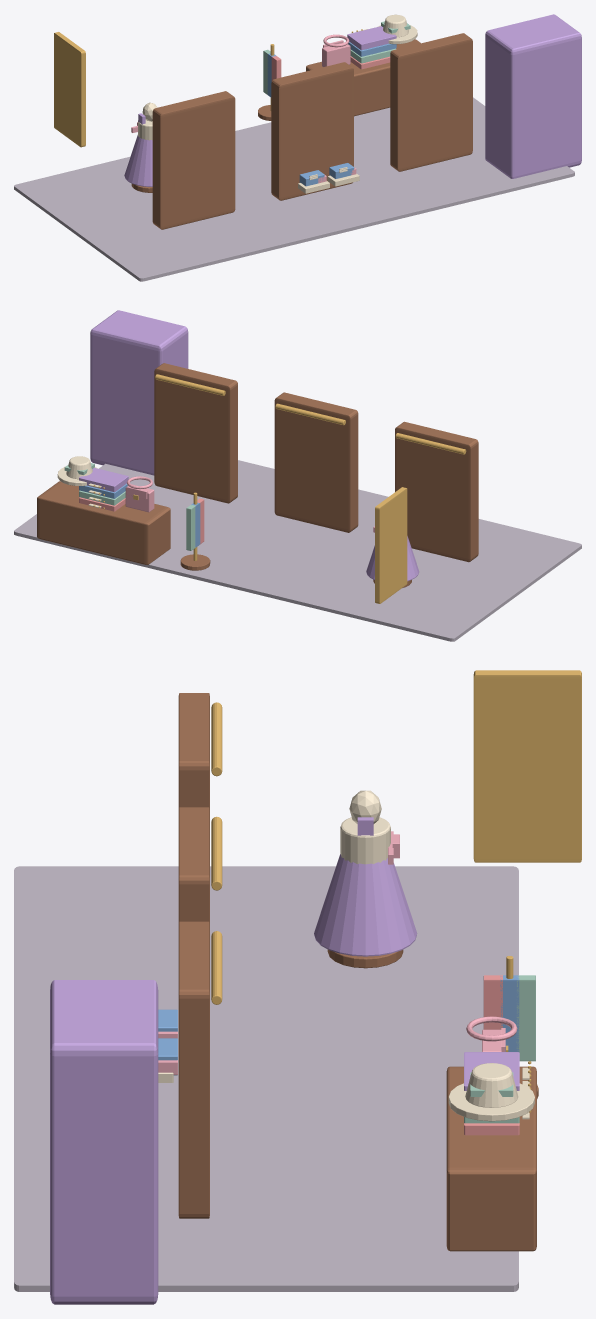
File: thread_and_thimble.glb
The picture shows the model from 3 angles, top to bottom: view 1: azimuth 30°, elevation 25°; view 2: azimuth 150°, elevation 25°; view 3: azimuth 270°, elevation 25°; orthographic projection. The views are drawn at different scales.
Visible parts, largest first — view 1: Thread_Floor_Inset, Thread_Fitting_Room, Thread_Rack_17, Thread_Rack_23, Thread_Rack_20, Thread_Mirror, Thread_Display_Table, Dress_Skirt, Folded_Shirt_4, Handbag_Body, Sun_Hat_Crown; view 2: Thread_Floor_Inset, Thread_Fitting_Room, Thread_Rack_20, Thread_Rack_23, Thread_Rack_17, Thread_Display_Table, Thread_Mirror, Folded_Shirt_4, Dress_Skirt, Handbag_Body, Thread_Rack_Rod_20, Thread_Rack_Rod_17 (+3 smaller); view 3: Thread_Floor_Inset, Thread_Fitting_Room, Thread_Mirror, Thread_Display_Table, Thread_Rack_23, Dress_Skirt, Thread_Rack_17, Thread_Rack_20, Dress_Torso, Sun_Hat_Crown, Sun_Hat_Brim, Scarf_3 (+8 smaller).
Boxes of the visible parts, x1,y1,x2,y2 form: Thread_Floor_Inset: (14,97,574,281); Thread_Fitting_Room: (485,14,581,178); Thread_Rack_17: (152,91,235,229); Thread_Rack_23: (390,33,472,171); Thread_Rack_20: (271,62,353,200); Thread_Mirror: (54,32,85,147); Thread_Display_Table: (306,39,420,116); Dress_Skirt: (124,135,152,186); Folded_Shirt_4: (347,26,396,50); Handbag_Body: (322,42,350,67); Sun_Hat_Crown: (383,14,408,37); Thread_Floor_Inset: (14,460,581,641); Thread_Fitting_Room: (90,310,188,475); Thread_Rack_20: (274,392,358,532); Thread_Rack_23: (154,363,237,503); Thread_Rack_17: (395,421,478,562); Thread_Display_Table: (37,481,170,564); Thread_Mirror: (375,487,407,603); Folded_Shirt_4: (79,467,128,492); Dress_Skirt: (366,536,419,581); Handbag_Body: (125,484,154,512); Thread_Rack_Rod_20: (275,403,345,425); Thread_Rack_Rod_17: (395,433,466,454); Thread_Floor_Inset: (14,866,518,1291); Thread_Fitting_Room: (50,980,158,1304); Thread_Mirror: (473,670,581,862); Thread_Display_Table: (446,1066,536,1251); Thread_Rack_23: (178,921,209,1218); Dress_Skirt: (314,854,417,956); Thread_Rack_17: (178,693,209,809); Thread_Rack_20: (178,807,209,923); Dress_Torso: (340,817,390,864); Sun_Hat_Crown: (465,1063,518,1107); Sun_Hat_Brim: (448,1083,534,1121); Scarf_3: (516,975,535,1061).
Bounding box in the file's own units: 11.4 × 3.2 × 6.3.
